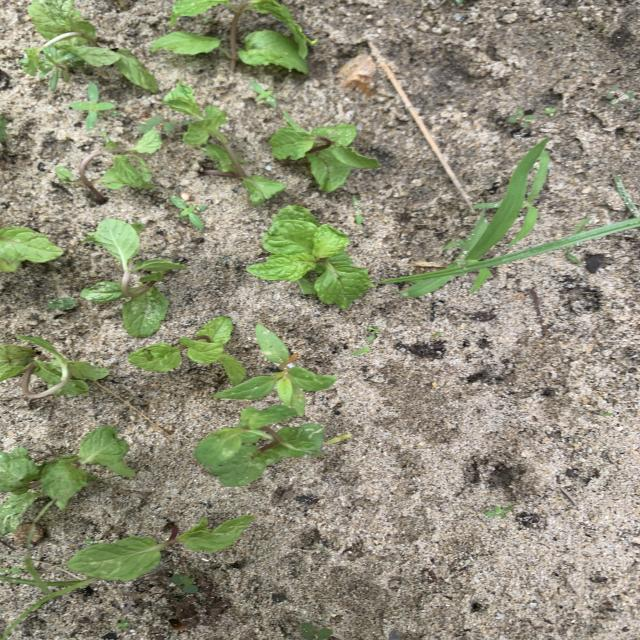crop: (164, 82, 284, 202), (1, 427, 134, 534), (248, 207, 373, 307), (84, 219, 185, 336), (28, 1, 158, 90), (69, 517, 254, 579), (168, 1, 315, 72), (195, 406, 323, 486), (128, 317, 245, 386), (272, 115, 378, 190), (56, 132, 160, 201), (1, 337, 108, 399), (1, 227, 62, 271)
weed: (400, 141, 639, 295), (214, 324, 337, 416), (0, 551, 90, 640), (71, 83, 115, 128), (41, 48, 80, 89), (172, 196, 206, 228), (252, 82, 276, 106), (139, 116, 175, 131), (508, 109, 534, 128), (301, 623, 331, 639), (173, 574, 198, 592), (485, 505, 515, 519), (48, 298, 77, 309), (325, 435, 350, 443), (367, 326, 379, 341)
